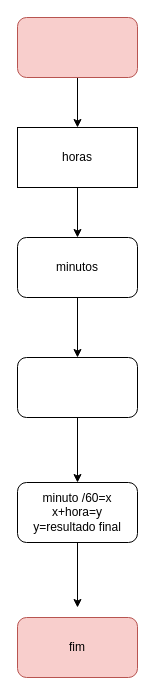
Some shapes in this 155 by 695 pixel diagram are drawn without their labels. The centre of each missing label's shape, as x and y in pixels:
conta: (x=77, y=387)
inicio: (x=77, y=47)
